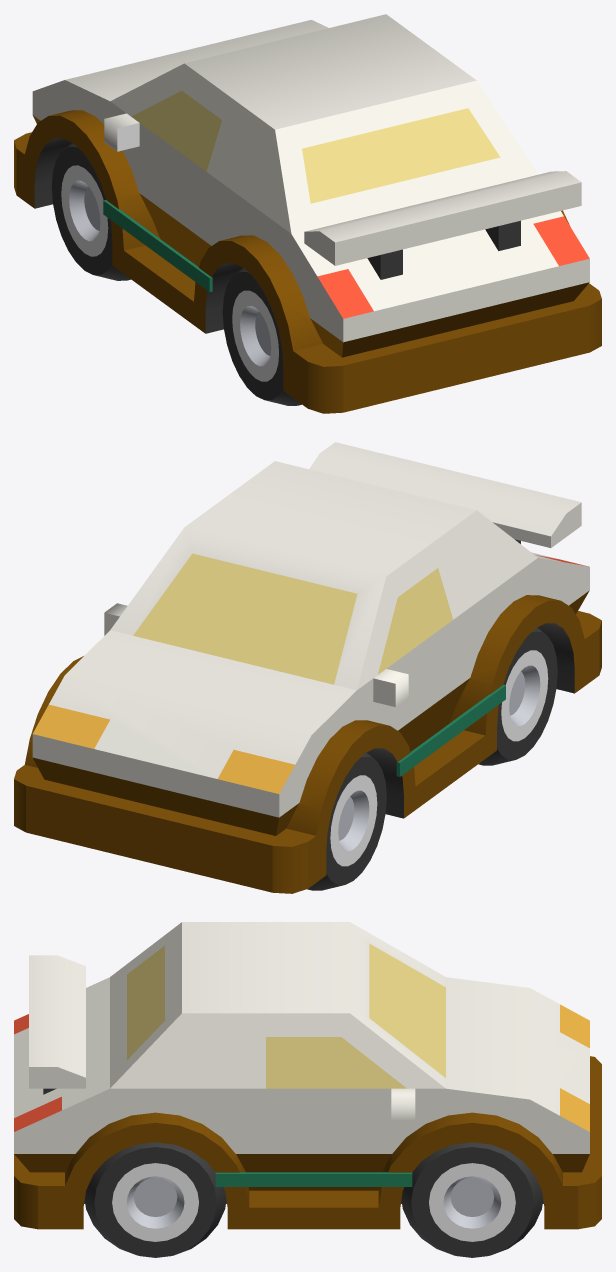
The model's file is Karachi Taxi.glb.
3 renders of one model, top to bottom at view 1: azimuth 30°, elevation 25°; view 2: azimuth 150°, elevation 25°; view 3: azimuth 270°, elevation 25°, orthographic. The views are drawn at different scales.
Parts seen in each view (by area): view 1: body, spoiler, wheel_backLeft, wheel_frontLeft, KarachiTaxiLeftDoorGreenBand; view 2: body, spoiler, wheel_frontLeft, wheel_backLeft, KarachiTaxiLeftDoorGreenBand; view 3: body, wheel_backRight, wheel_frontRight, spoiler, KarachiTaxiRightDoorGreenBand.
Part boxes in pixels (box(x1,y1,x2,y2)): body: box(14, 14, 601, 413); spoiler: box(304, 171, 581, 279); wheel_backLeft: box(222, 267, 301, 405); wheel_frontLeft: box(51, 142, 130, 280); KarachiTaxiLeftDoorGreenBand: box(103, 200, 212, 292); body: box(14, 461, 601, 893); spoiler: box(309, 442, 581, 547); wheel_frontLeft: box(307, 752, 386, 890); wheel_backLeft: box(478, 627, 557, 765); KarachiTaxiLeftDoorGreenBand: box(396, 684, 505, 776); body: box(14, 922, 601, 1229); wheel_backRight: box(84, 1142, 226, 1257); wheel_frontRight: box(401, 1142, 543, 1257); spoiler: box(29, 955, 85, 1094); KarachiTaxiRightDoorGreenBand: box(215, 1172, 412, 1186).
Bounding box in the file's own units: 1.32 × 1.1 × 2.45.
